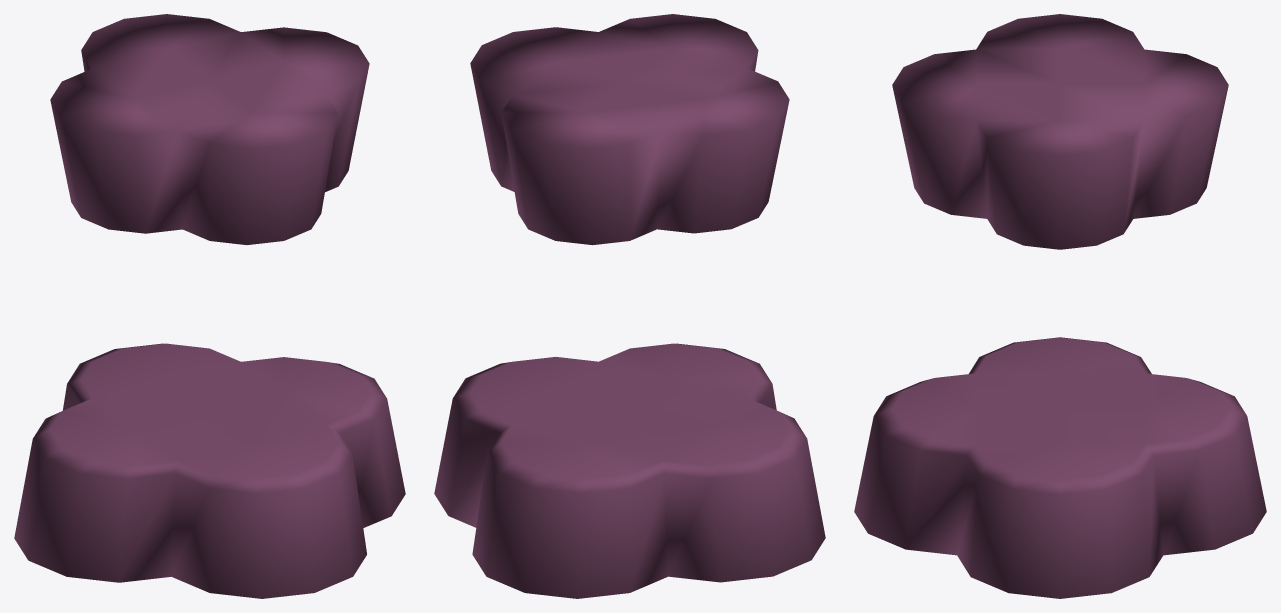
The model's file is Pillar_04_Half_Base_Lod0.fbx.
3 views of the same model, side by side, from view 1: azimuth 30°, elevation 25°; view 2: azimuth 150°, elevation 25°; view 3: azimuth 270°, elevation 25° (orthographic).
Parts seen in each view (by area): view 1: Pillar_04_Half_Base_Lod0; view 2: Pillar_04_Half_Base_Lod0; view 3: Pillar_04_Half_Base_Lod0.
Part boxes in pixels (<box>): Pillar_04_Half_Base_Lod0: <box>14,14,405,598</box>; Pillar_04_Half_Base_Lod0: <box>434,14,825,598</box>; Pillar_04_Half_Base_Lod0: <box>854,14,1266,598</box>.
Bounding box in the file's own units: 131 × 150 × 131.
